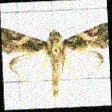Spodoptera litura: (2, 18, 109, 97)
